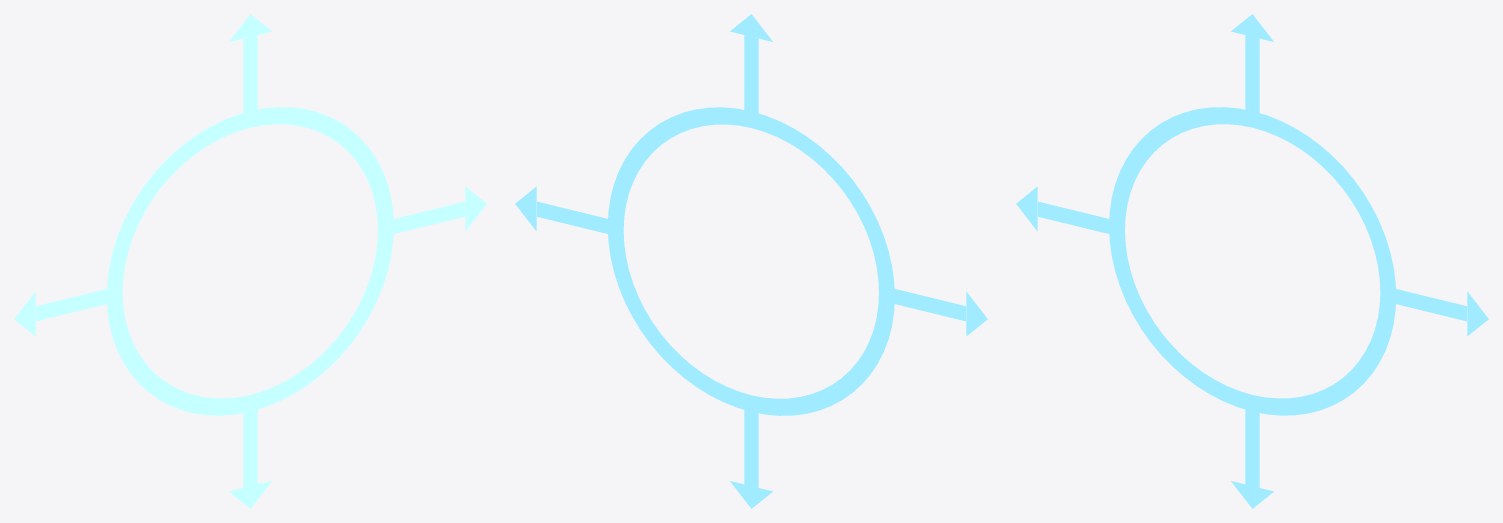
The model's file is manipulator_move.dae.
The picture shows the model from 3 angles, left to right: view 1: azimuth 30°, elevation 25°; view 2: azimuth 150°, elevation 25°; view 3: azimuth 330°, elevation 25°; orthographic projection.
Visible parts, largest first — view 1: manipulator_move; view 2: manipulator_move; view 3: manipulator_move.
Part boxes in pixels (box(x1,y1,x2,y2)): manipulator_move: box(14, 14, 486, 508); manipulator_move: box(515, 14, 987, 508); manipulator_move: box(1016, 14, 1488, 508).
Bounding box in the file's own units: 0.6502 × 0.0004 × 0.6502.
